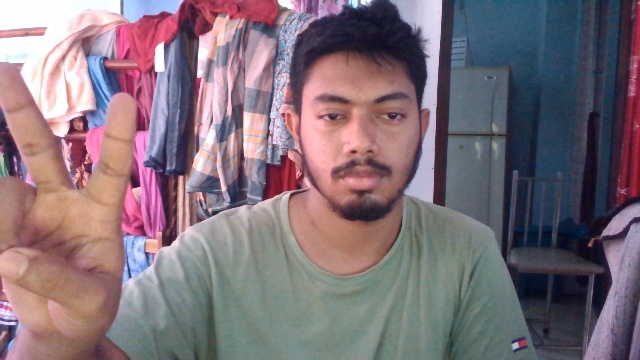thanks: (1, 62, 139, 338)
